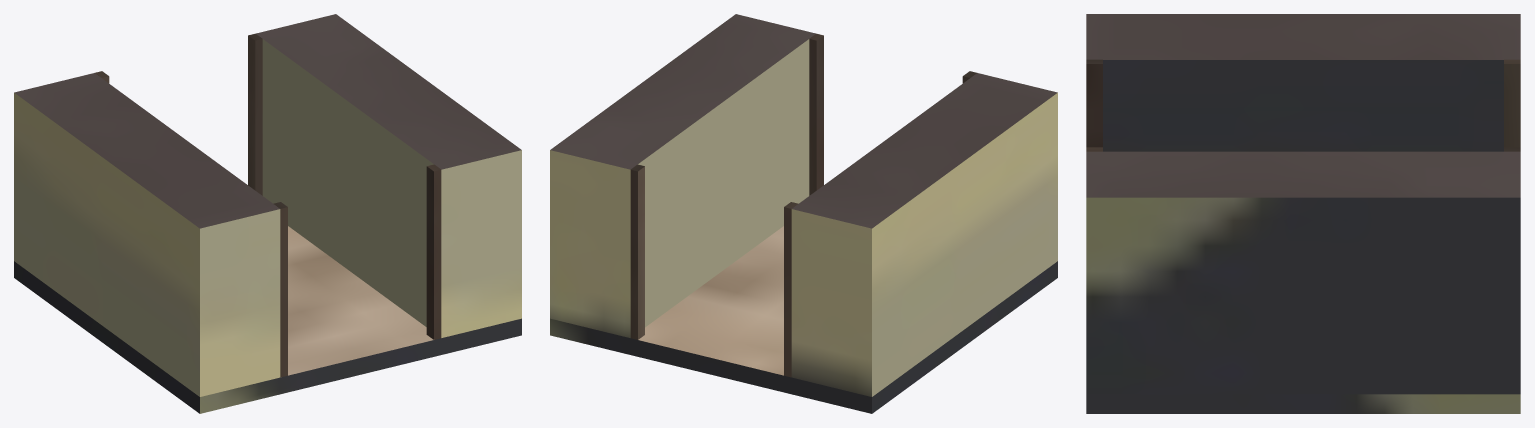
Rendered from Tile_Straight_Wüste.fbx.
The picture shows the model from 3 angles, left to right: view 1: azimuth 30°, elevation 25°; view 2: azimuth 150°, elevation 25°; view 3: azimuth 270°, elevation 25°; orthographic projection. The views are drawn at different scales.
Visible parts, largest first — view 1: TileStraight; view 2: TileStraight; view 3: TileStraight.
Part boxes in pixels (<box>): TileStraight: <box>14,14,521,413</box>; TileStraight: <box>550,14,1057,413</box>; TileStraight: <box>1086,14,1520,413</box>.
Bounding box in the file's own units: 2000 × 1100 × 2000.
Materials: 4 (4 with a texture image).
